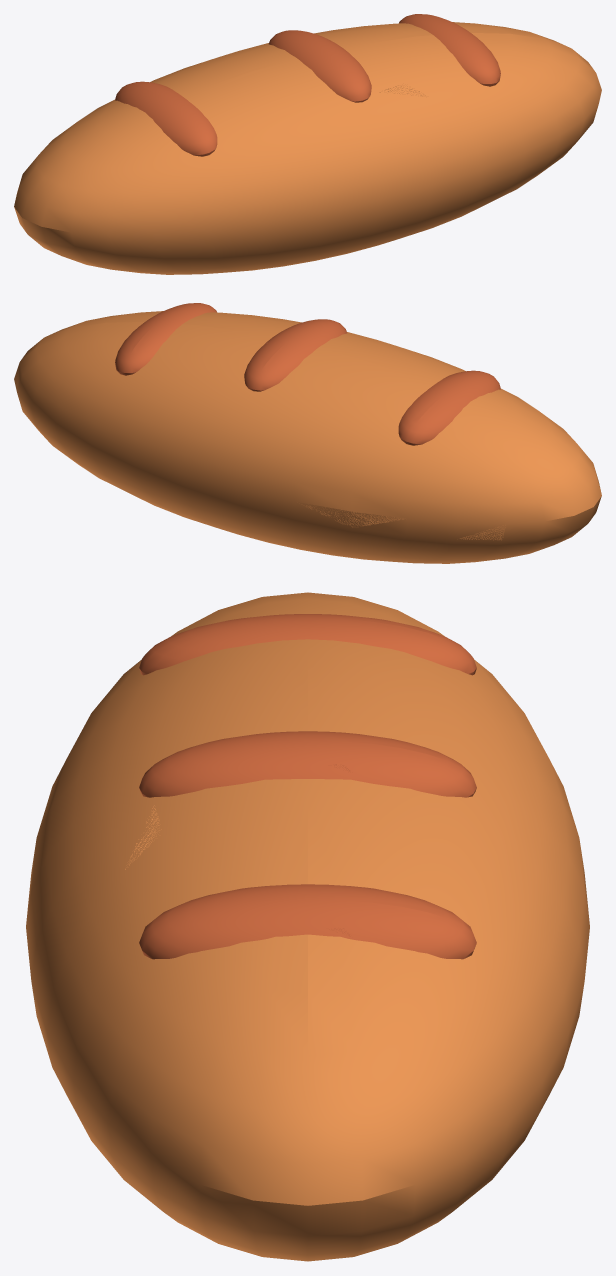
The model's file is bagietka.gltf.
3 views of the same model, one above another, from view 1: azimuth 30°, elevation 25°; view 2: azimuth 150°, elevation 25°; view 3: azimuth 270°, elevation 25° (orthographic). The views are drawn at different scales.
Visible parts, largest first — view 1: Sphere.001, Sphere.009, Sphere.008; view 2: Sphere.001, Sphere.009, Sphere.008; view 3: Sphere.001, Sphere.009, Sphere.008.
Part boxes in pixels (x1,y1,x2,y2): Sphere.001: (14,22,601,274); Sphere.009: (115,14,500,156); Sphere.008: (269,30,371,102); Sphere.001: (14,311,601,563); Sphere.009: (115,303,500,445); Sphere.008: (244,319,346,391); Sphere.001: (26,592,589,1261); Sphere.009: (139,614,476,959); Sphere.008: (139,731,476,797).
Size of the model in its own units: 0.2883 by 0.0924 by 0.1233.
Materials: 1 (1 with a texture image).
